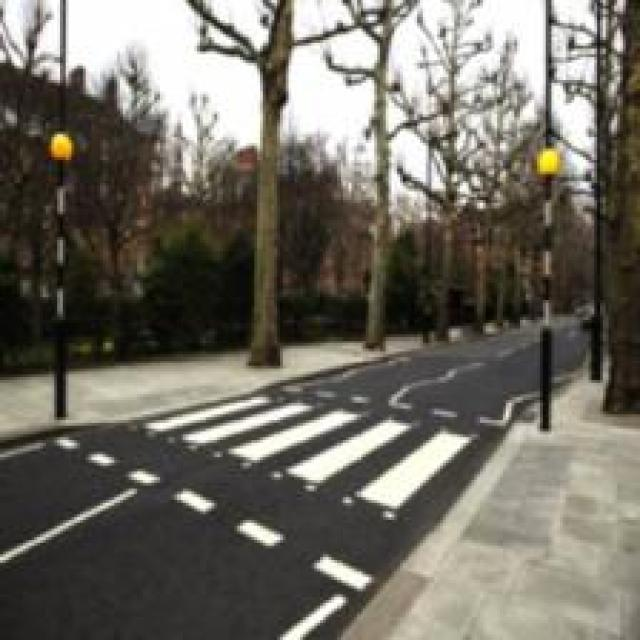crosswalk: (157, 366, 503, 526)
